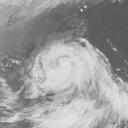cyclone: (26, 36, 120, 112)
